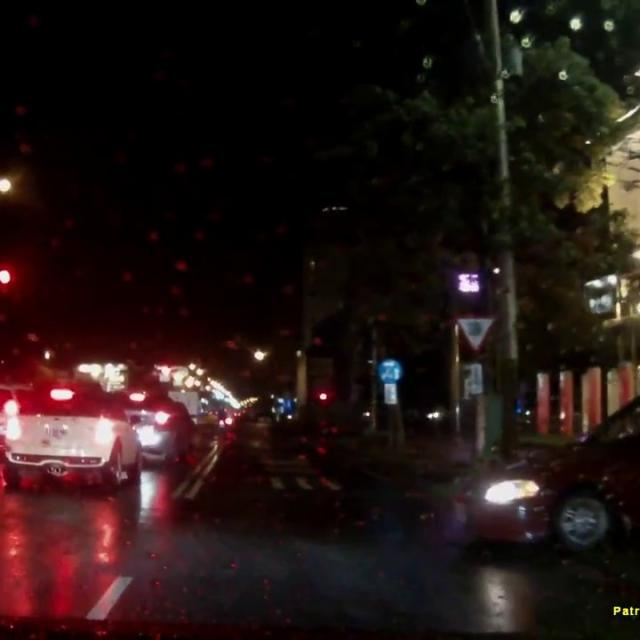Car: (446, 392, 639, 558), (3, 388, 144, 483), (117, 384, 194, 466)
